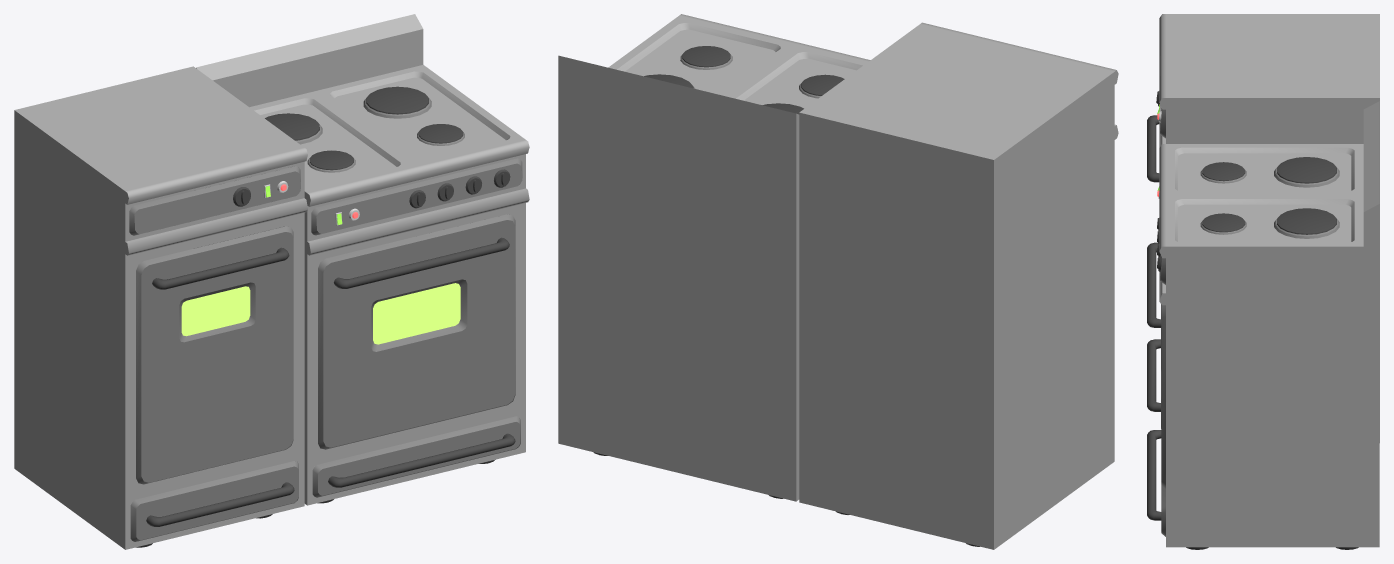
The model's file is cocina_tres.gltf.
The picture shows the model from 3 angles, left to right: view 1: azimuth 30°, elevation 25°; view 2: azimuth 150°, elevation 25°; view 3: azimuth 270°, elevation 25°; orthographic projection. The views are drawn at different scales.
Visible parts, largest first — view 1: cocina_02_02 - Default_0, cocina_01_02 - Default_0, cocina_01_07 - Default_0, cocina_02_07 - Default_0, cocina_01_03 - Default_0, cocina_01_08 - Default_0, cocina_02_03 - Default_0, cocina_02_08 - Default_0; view 2: cocina_02_02 - Default_0, cocina_01_02 - Default_0, cocina_01_03 - Default_0; view 3: cocina_01_02 - Default_0, cocina_02_02 - Default_0, cocina_01_03 - Default_0, cocina_01_07 - Default_0, cocina_02_03 - Default_0.
Boxes of the visible parts, x1=… form: cocina_02_02 - Default_0: x1=14, y1=66, x2=307, y2=549; cocina_01_02 - Default_0: x1=196, y1=14, x2=529, y2=505; cocina_01_07 - Default_0: x1=295, y1=95, x2=522, y2=497; cocina_02_07 - Default_0: x1=129, y1=166, x2=300, y2=541; cocina_01_03 - Default_0: x1=265, y1=86, x2=515, y2=503; cocina_01_08 - Default_0: x1=373, y1=283, x2=460, y2=344; cocina_02_03 - Default_0: x1=136, y1=187, x2=294, y2=547; cocina_02_08 - Default_0: x1=181, y1=286, x2=250, y2=336; cocina_02_02 - Default_0: x1=799, y1=22, x2=1118, y2=549; cocina_01_02 - Default_0: x1=558, y1=14, x2=870, y2=501; cocina_01_03 - Default_0: x1=593, y1=46, x2=844, y2=498; cocina_01_02 - Default_0: x1=1159, y1=101, x2=1379, y2=547; cocina_02_02 - Default_0: x1=1159, y1=14, x2=1379, y2=442; cocina_01_03 - Default_0: x1=1147, y1=157, x2=1358, y2=549; cocina_01_07 - Default_0: x1=1160, y1=165, x2=1339, y2=536; cocina_02_03 - Default_0: x1=1147, y1=91, x2=1160, y2=411.
Size of the model in its own units: 60.42 by 53.17 by 31.58.
